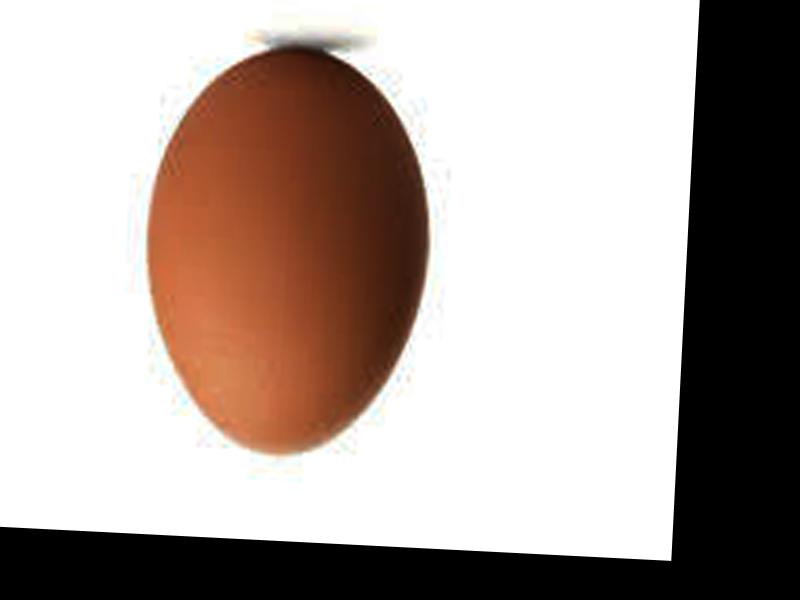Eggs: (140, 38, 437, 457)
